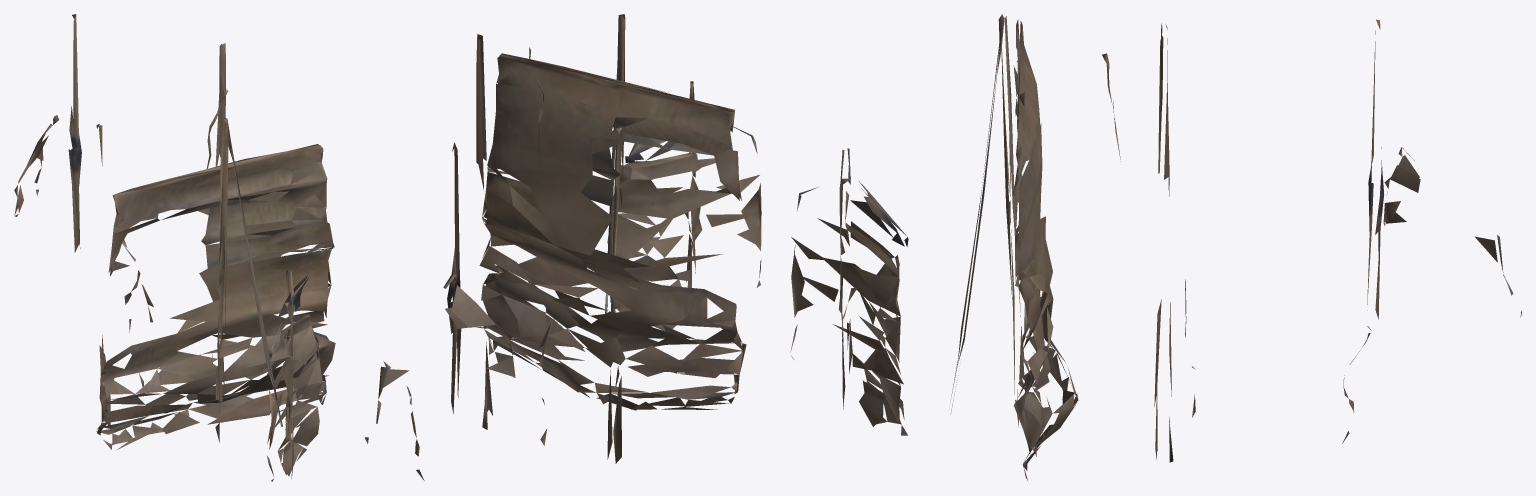
Rendered from buom-xiem-rach.glb.
3 renders of one model, left to right at view 1: azimuth 30°, elevation 25°; view 2: azimuth 150°, elevation 25°; view 3: azimuth 270°, elevation 25°, orthographic. The views are drawn at different scales.
Visible parts, largest first — view 1: Buom_Xiem_Rach; view 2: Buom_Xiem_Rach; view 3: Buom_Xiem_Rach.
Boxes of the visible parts, bbox=[...] form: Buom_Xiem_Rach: bbox=[14, 14, 335, 481]; Buom_Xiem_Rach: bbox=[365, 14, 761, 480]; Buom_Xiem_Rach: bbox=[790, 14, 1521, 480].
Bounding box in the file's own units: 7.83 × 11.28 × 16.89.
Materials: 1 (1 with a texture image).
